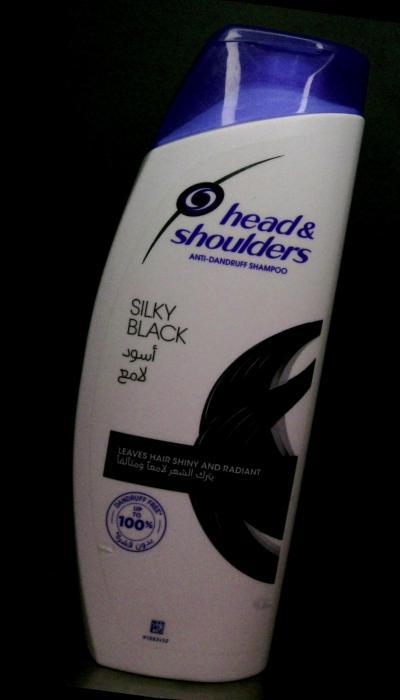tear_unacc: (79, 530, 129, 568), (242, 579, 280, 620)
